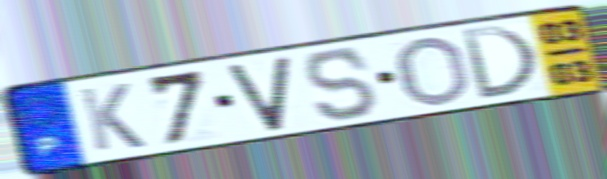7: (147, 67, 209, 149)
D: (457, 23, 542, 102)
K: (75, 80, 149, 154)
O: (394, 34, 474, 108)
S: (301, 46, 381, 124)
V: (224, 53, 292, 134)
